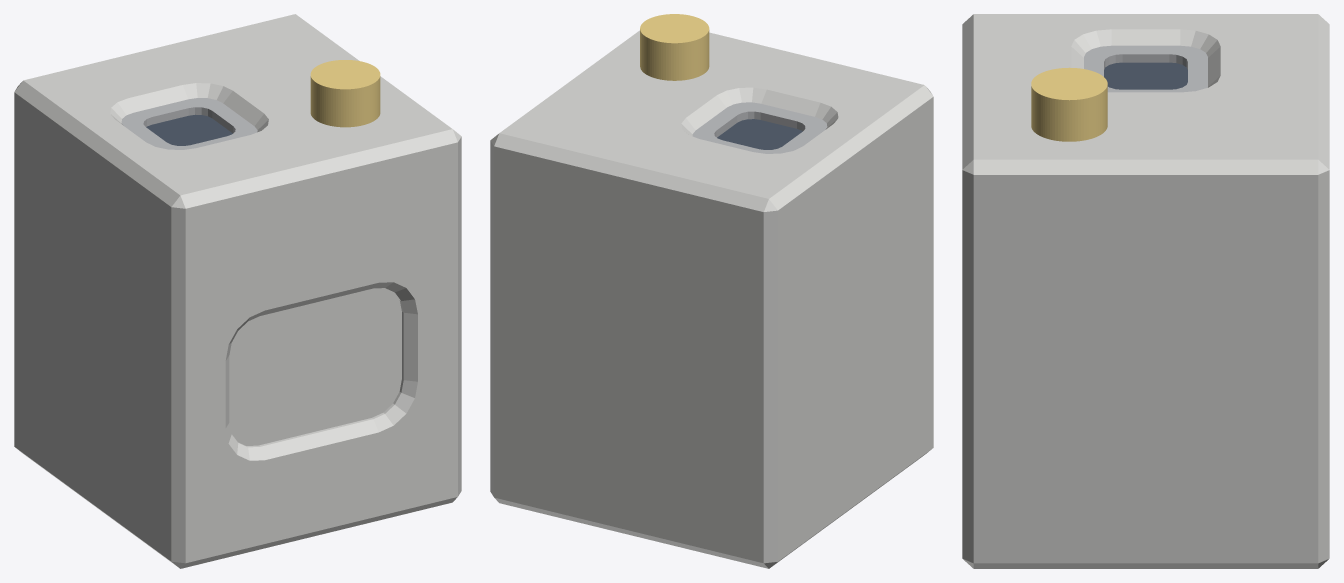
Rendered from ax_util_17_spectrometer.glb.
The picture shows the model from 3 angles, left to right: view 1: azimuth 30°, elevation 25°; view 2: azimuth 150°, elevation 25°; view 3: azimuth 270°, elevation 25°; orthographic projection. The views are drawn at different scales.
Visible parts, largest first — view 1: housing, detector_head, view_port_frame, view_port_glass; view 2: housing, detector_head, view_port_frame, view_port_glass; view 3: housing, detector_head, view_port_frame, view_port_glass.
Part boxes in pixels (x1,y1,x2,y2): housing: [14, 14, 461, 568]; detector_head: [310, 60, 380, 127]; view_port_frame: [121, 98, 257, 149]; view_port_glass: [146, 114, 232, 145]; housing: [490, 30, 933, 568]; detector_head: [640, 14, 709, 80]; view_port_frame: [692, 102, 827, 153]; view_port_glass: [717, 119, 802, 149]; housing: [962, 14, 1329, 568]; detector_head: [1031, 67, 1107, 141]; view_port_frame: [1084, 45, 1207, 92]; view_port_glass: [1104, 62, 1187, 89].
Bounding box in the file's own units: 0.48 × 0.65 × 0.48.
